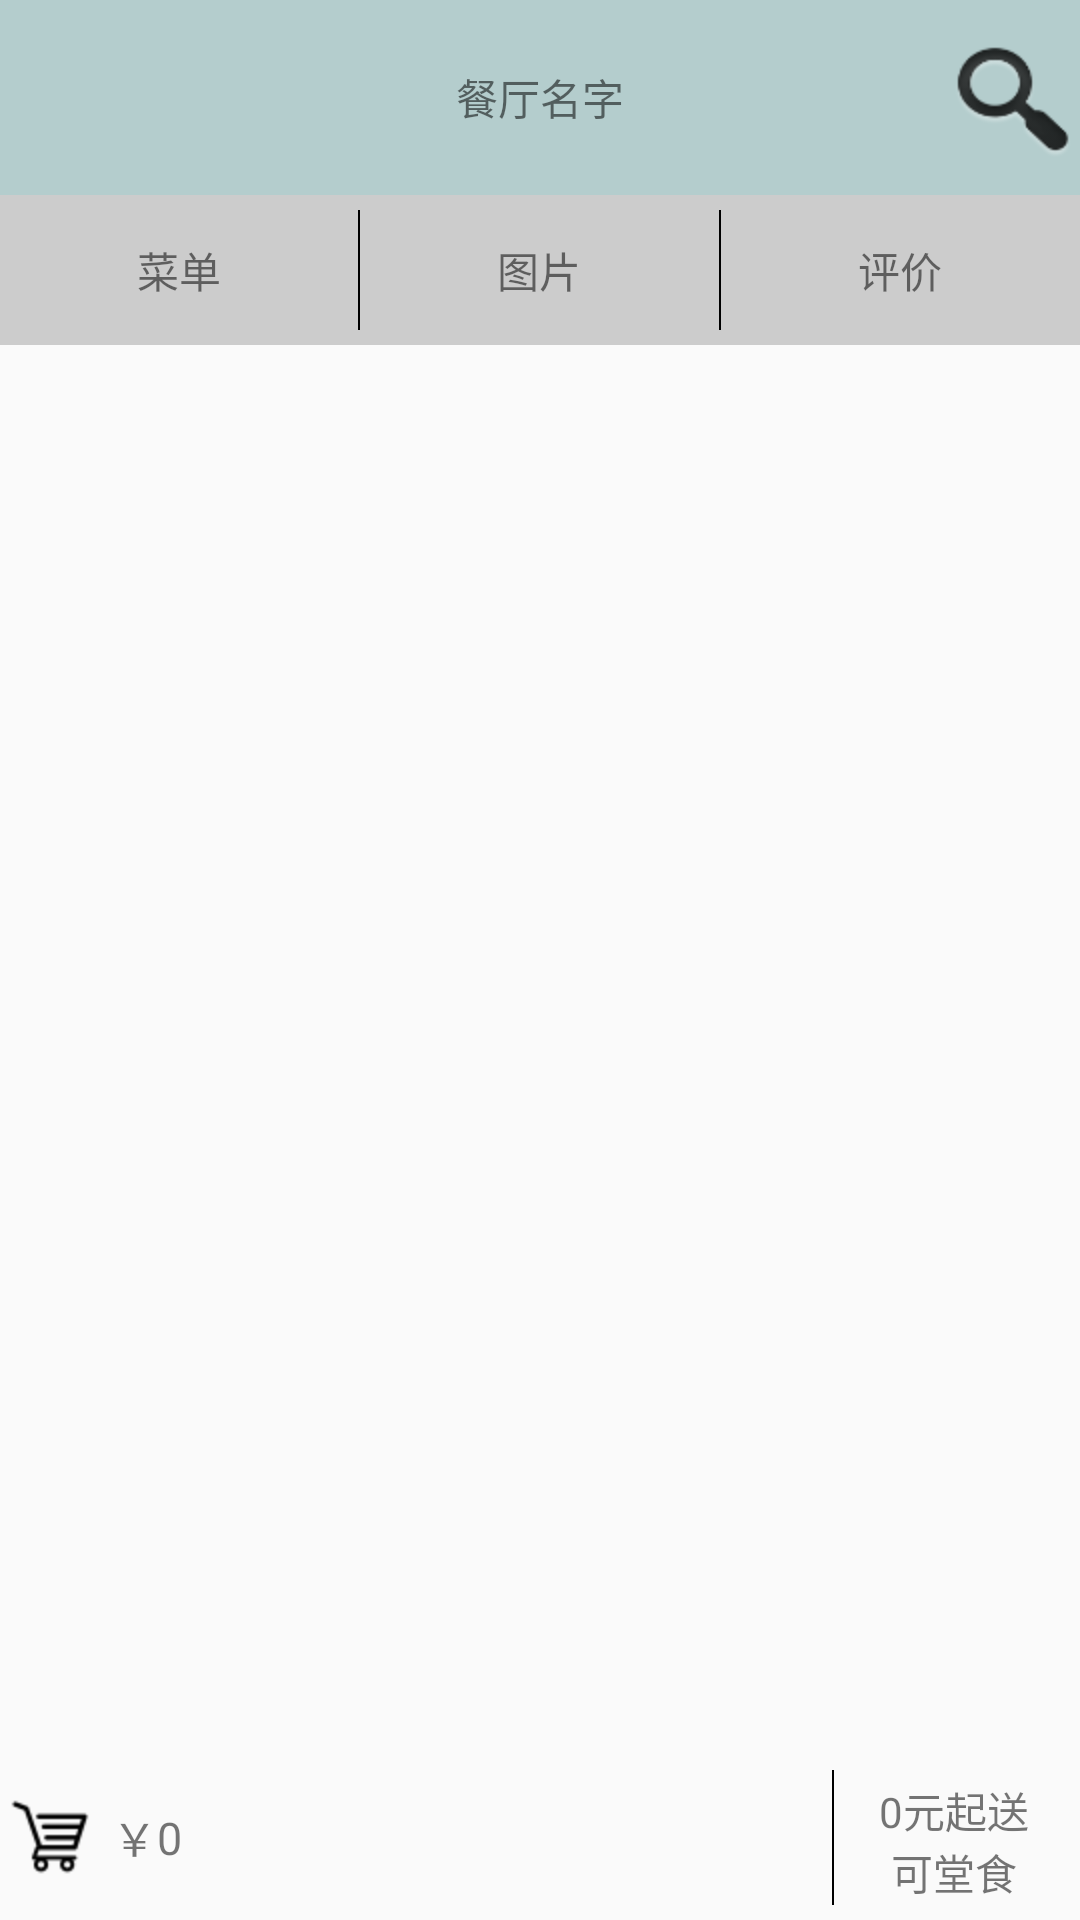

Icons on this 1080x1920 Android screen, each with its box as (x1, y1, x2, y2):
search: (957, 47, 1069, 151)
shopping: (11, 1800, 89, 1873)
